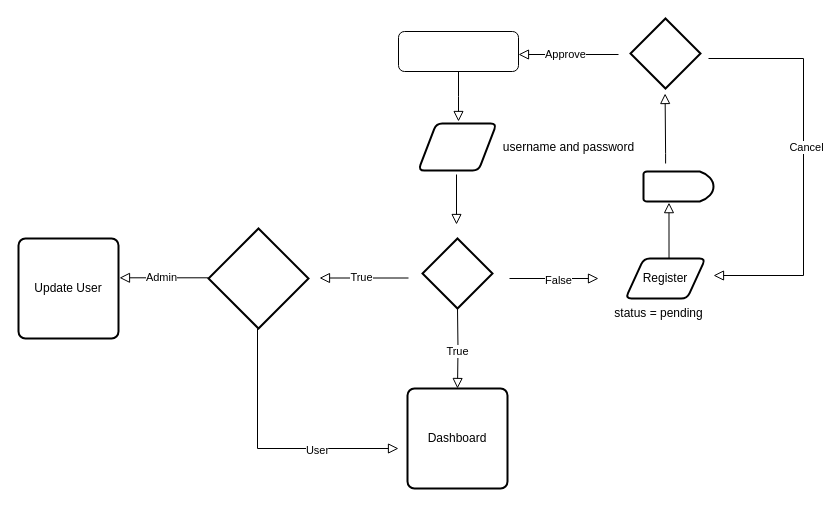
Image size: 840x506. Some labels were removed from this diagram. Here are the shapes that lost their labels. From the top down, the centre of each, then its label:
the point at 458,51: welcome or log in
the point at 678,186: Pendind
